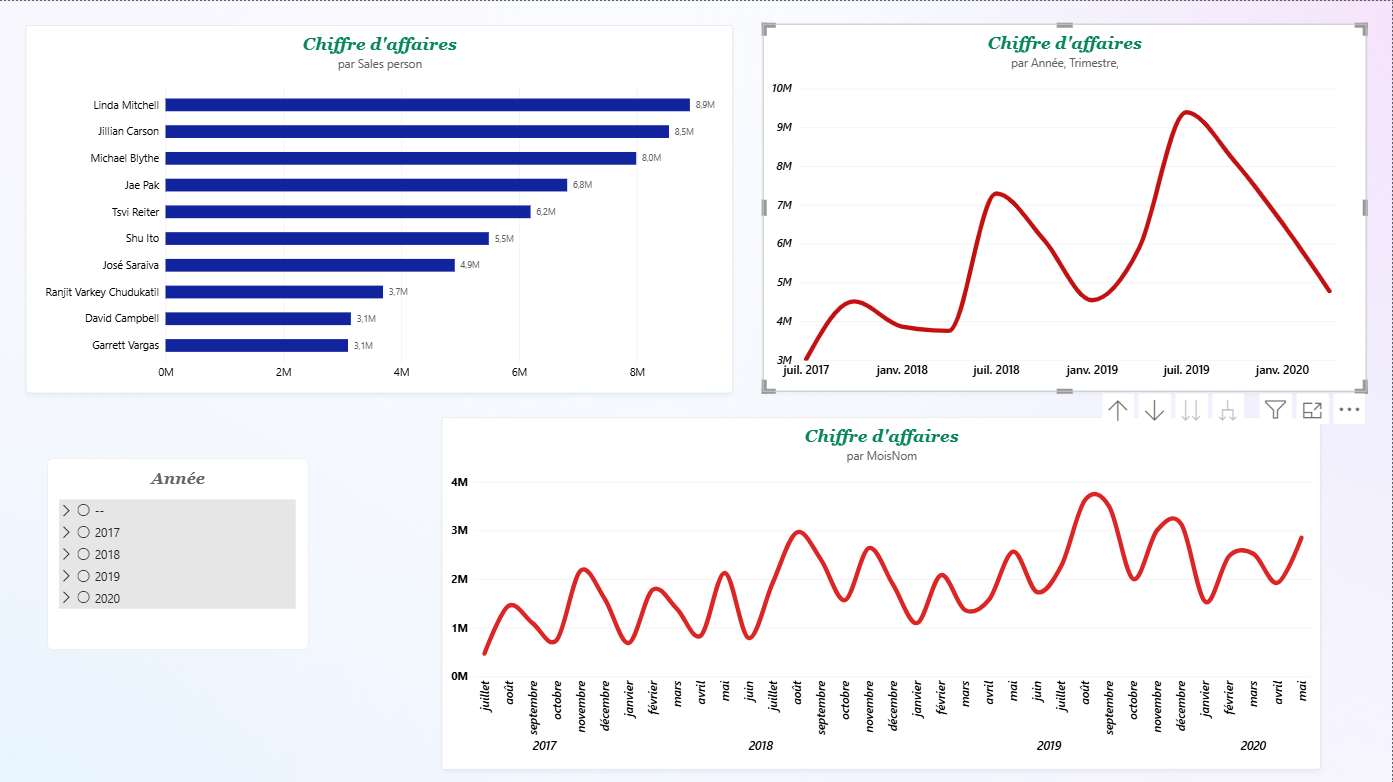

The dashboard page shown, as its layout file describes it:
{"tool":"powerbi","page":{"name":"Page 4","canvas":[1920,1080],"ordinal":3},"visuals":[{"type":"clusteredBarChart","title":"Chiffre d''affaires","fields":{"Category":["Salesperson.Salesperson"],"Y":["Sales.ChiffreAffaires"]},"box":[37.5,32.5,975,507.5],"z":0},{"type":"lineChart","title":"Chiffre d''affaires","fields":{"Category":["Calendrier.Date.Variation.Hiérarchie de dates.Année","Calendrier.Date.Variation.Hiérarchie de dates.Trimestre","Calendrier.Date.Variation.Hiérarchie de dates.Mois","Calendrier.Date.Variation.Hiérarchie de dates.Jour"],"Y":["Sales.ChiffreAffaires"]},"box":[1062.5,32.5,822.5,507.5],"z":2000},{"type":"lineChart","title":"Chiffre d''affaires","fields":{"Category":["Calendrier.Année","Calendrier.MoisNom"],"Y":["Sales.ChiffreAffaires"]},"box":[610,574,1212,486],"z":3000},{"type":"listSlicer","fields":{"Values":["Calendrier.Date.Variation.Hiérarchie de dates.Année","Calendrier.Date.Variation.Hiérarchie de dates.Trimestre","Calendrier.Date.Variation.Hiérarchie de dates.Mois","Calendrier.Date.Variation.Hiérarchie de dates.Jour"]},"box":[66,630,360,264],"z":4000}]}

Visuals, with their boxes in screenshot pixels (x1, y1, x2, y2), scaled from the page's 1920x1080 canvas onto the 1393x782 screenshot:
"Chiffre d''affaires" clusteredBarChart: [left=27, top=24, right=735, bottom=391]
"Chiffre d''affaires" lineChart: [left=771, top=24, right=1368, bottom=391]
"Chiffre d''affaires" lineChart: [left=443, top=416, right=1322, bottom=768]
listSlicer - Calendrier.Date.Variation.Hiérarchie de dates.Année x Calendrier.Date.Variation.Hiérarchie de dates.Trimestre: [left=48, top=456, right=309, bottom=647]
